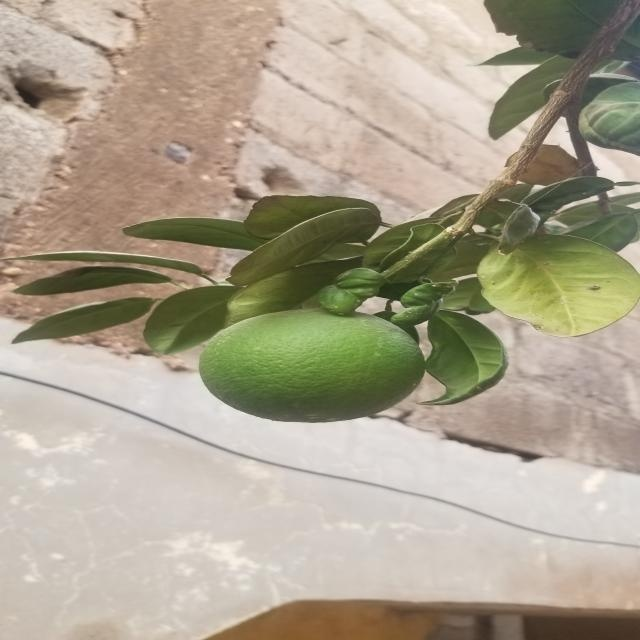agrume: (186, 294, 451, 438)
